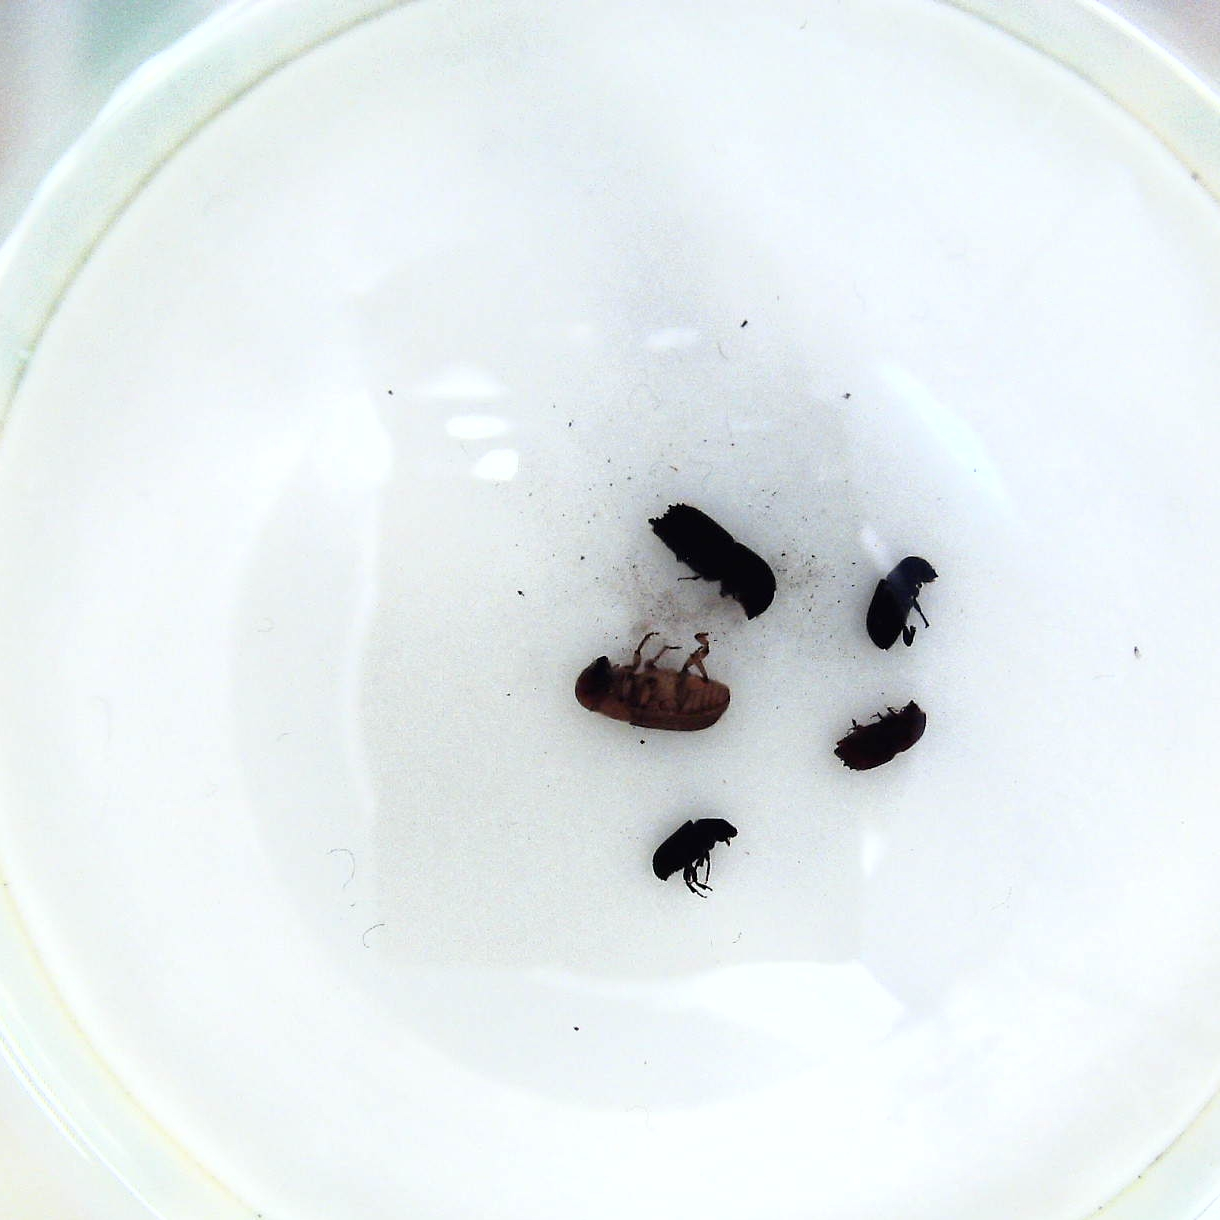Boerner: (646, 501, 780, 625)
Leconte: (570, 629, 741, 738)
armandi: (860, 551, 941, 656)
coleoptera: (645, 814, 746, 897)
linnaeus: (829, 700, 934, 775)
